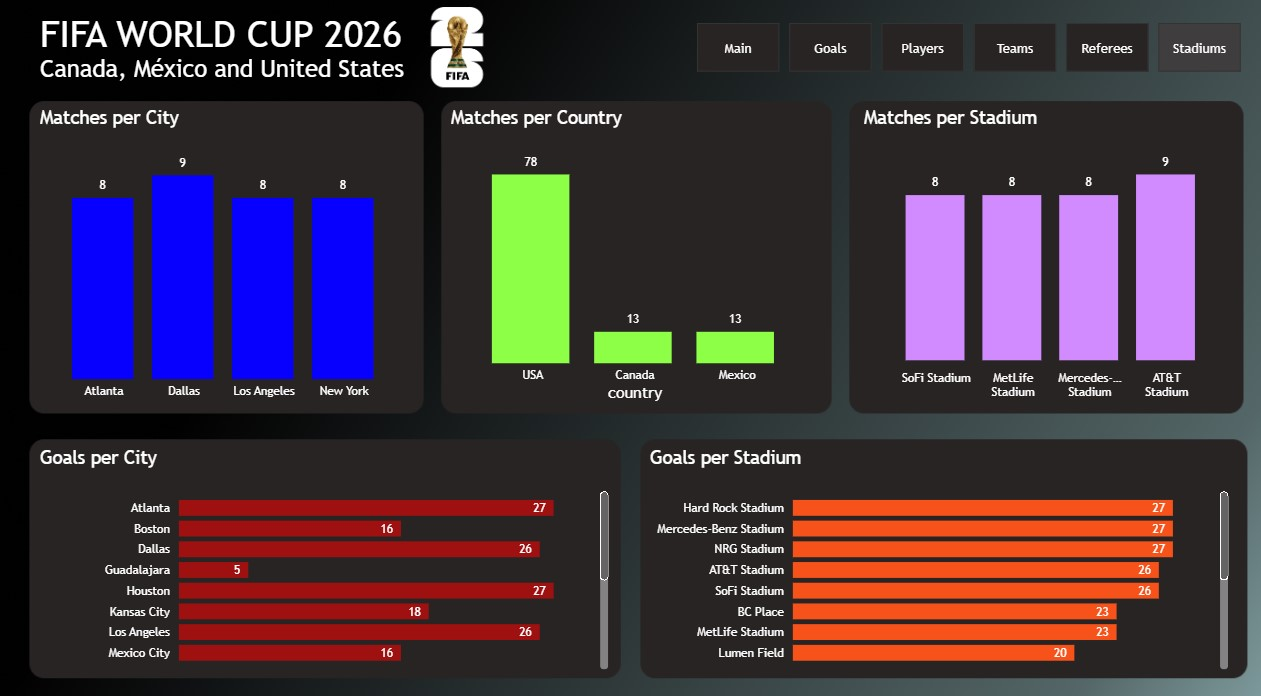

What the dashboard file says about the page in this screenshot:
{"tool":"powerbi","page":{"name":"Stadiums","canvas":[1280,720],"ordinal":5},"visuals":[{"type":"columnChart","title":"Matches per City","fields":{"Category":["matches.city"],"Y":["Count(matches.match_no)"]},"box":[35.9,111.7,381.1,303.3],"z":0},{"type":"columnChart","title":"Matches per Stadium","fields":{"Category":["matches.stadium"],"Y":["Count(matches.match_no)"]},"box":[867,111.7,377.1,303.3],"z":1000},{"type":"barChart","title":"Goals per Stadium","fields":{"Category":["matches.stadium"],"Y":["Count(goals.goal_no)"]},"box":[651.5,454.9,592.6,230.5],"z":2000},{"type":"clusteredColumnChart","title":"Matches per Country","fields":{"Category":["venues.country"],"Y":["Count(matches.match_no)"]},"box":[450.9,111.7,381.1,303.3],"z":3000},{"type":"barChart","title":"Goals per City","fields":{"Category":["matches.city"],"Y":["Count(goals.goal_no)"]},"box":[35.9,454.9,582.6,230.5],"z":4000},{"type":"image","box":[404.1,12,114.7,80.8],"z":5000},{"type":"textbox","box":[35.9,12,383.1,95.8],"z":6000},{"type":"pageNavigator","box":[703.4,27.9,550.7,49.9],"z":7000}]}

Visuals, with their boxes in screenshot pixels (x1, y1, x2, y2), scaled from the page's 1280x720 canvas onto the 1261x696 screenshot:
"Matches per City" columnChart: [x1=35, y1=108, x2=411, y2=401]
"Matches per Stadium" columnChart: [x1=854, y1=108, x2=1226, y2=401]
"Goals per Stadium" barChart: [x1=642, y1=440, x2=1226, y2=663]
"Matches per Country" clusteredColumnChart: [x1=444, y1=108, x2=820, y2=401]
"Goals per City" barChart: [x1=35, y1=440, x2=609, y2=663]
image: [x1=398, y1=12, x2=511, y2=90]
textbox: [x1=35, y1=12, x2=413, y2=104]
pageNavigator: [x1=693, y1=27, x2=1235, y2=75]
